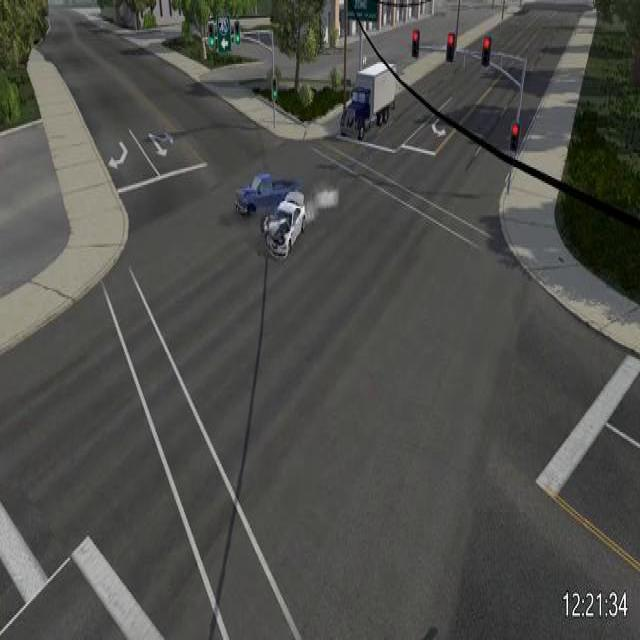moderate: (235, 170, 309, 264)
